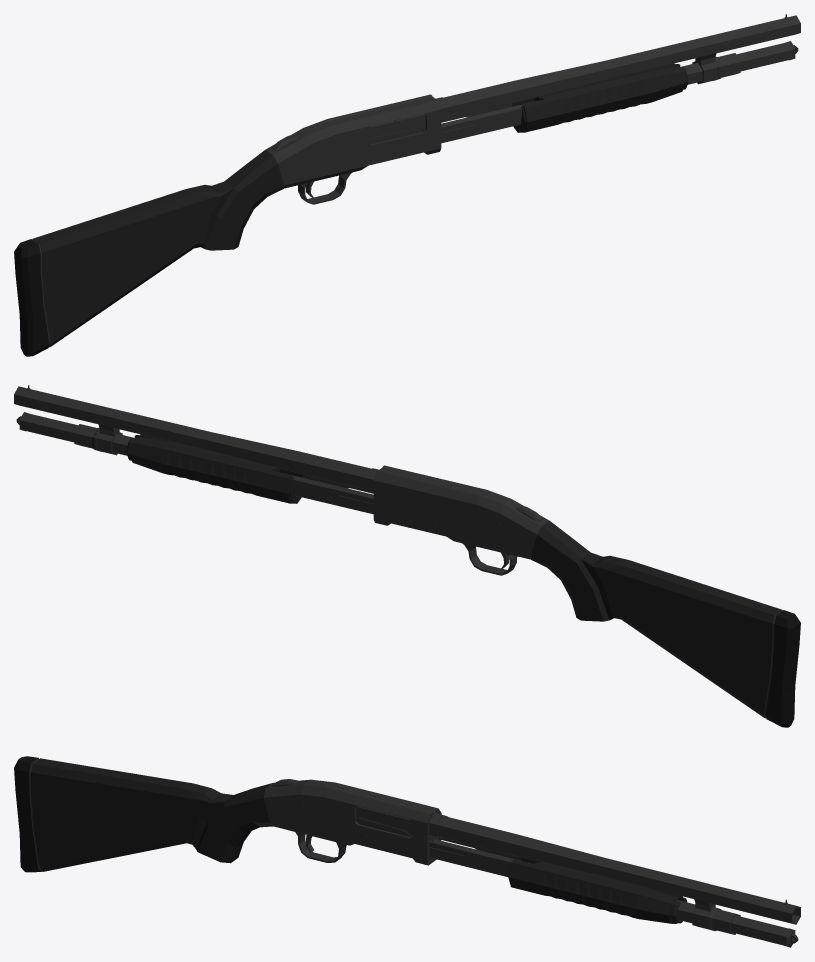
File: Shotgun.fbx
The picture shows the model from 3 angles, top to bottom: view 1: azimuth 30°, elevation 25°; view 2: azimuth 150°, elevation 25°; view 3: azimuth 330°, elevation 25°; orthographic projection.
Visible parts, largest first — view 1: guns.001; view 2: guns.001; view 3: guns.001.
Part boxes in pixels (left/top/right/bottom): guns.001: left=14, top=14, right=800, bottom=356; guns.001: left=14, top=385, right=800, bottom=727; guns.001: left=14, top=756, right=800, bottom=947.
Size of the model in its own units: 185 by 36.05 by 7.91.
Materials: 1 (1 with a texture image).
